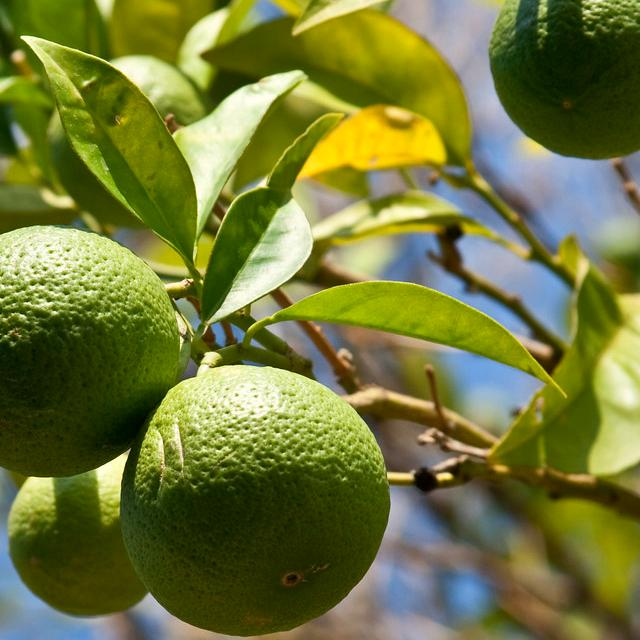lime: (127, 366, 384, 636), (0, 230, 183, 482), (490, 0, 640, 164), (10, 464, 148, 620)
